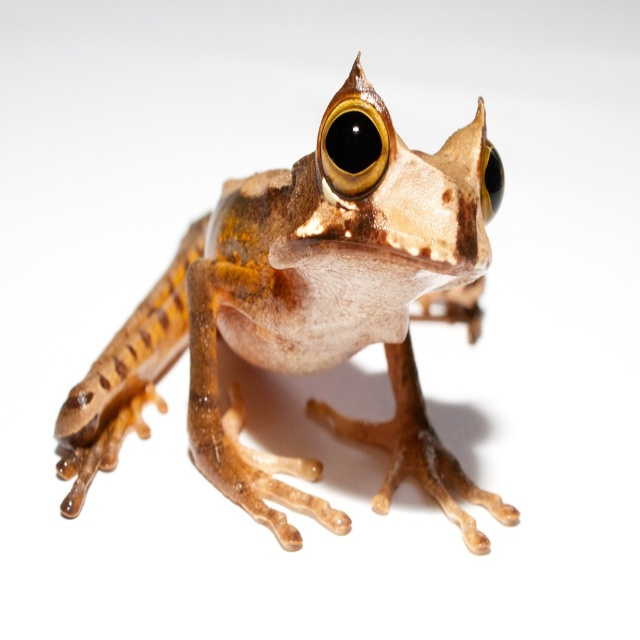Frog: (53, 50, 520, 555)
